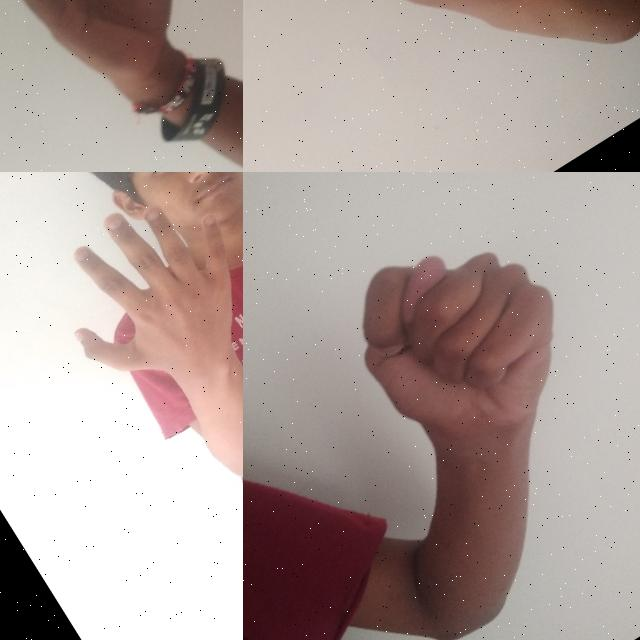Dulya: (314, 188, 619, 501)
Middle Finger: (243, 0, 544, 77)
Moutza: (25, 172, 243, 441)
Okay: (0, 0, 243, 156)
